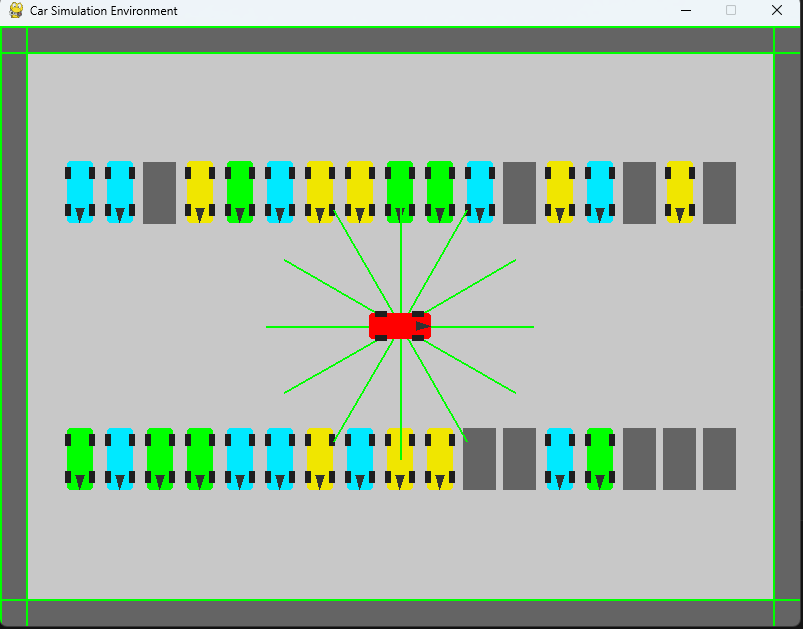ControlledCar: (368, 309, 440, 346)
ParkedCar: (578, 154, 618, 230), (418, 422, 457, 495), (420, 153, 456, 231), (661, 156, 700, 228), (98, 425, 139, 493), (582, 422, 619, 497), (59, 154, 97, 226), (261, 154, 298, 227), (100, 156, 135, 229), (258, 428, 296, 495), (303, 155, 338, 227), (461, 155, 497, 225), (142, 423, 177, 495), (338, 426, 375, 494), (540, 424, 578, 490), (182, 154, 216, 226), (340, 158, 376, 226), (299, 427, 337, 491), (61, 421, 96, 490), (221, 423, 256, 491), (544, 156, 576, 229), (382, 424, 414, 497), (183, 424, 216, 494), (223, 154, 254, 226), (382, 159, 416, 222)
ParkingSpot: (136, 154, 180, 231), (699, 418, 739, 498), (659, 420, 698, 497), (620, 153, 658, 231), (458, 421, 497, 495), (500, 418, 536, 498), (620, 423, 658, 496), (499, 159, 538, 228), (700, 155, 736, 229)
